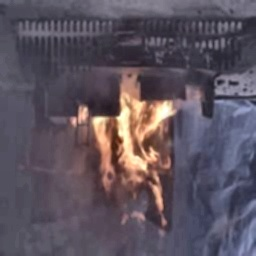fire: (98, 87, 177, 229)
